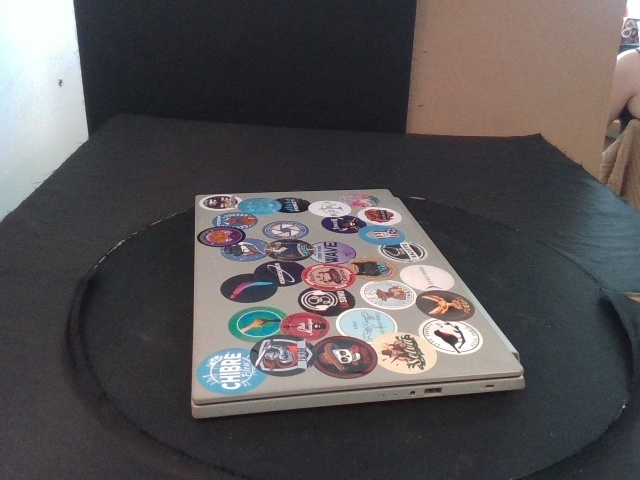laptop: (189, 189, 527, 419)
